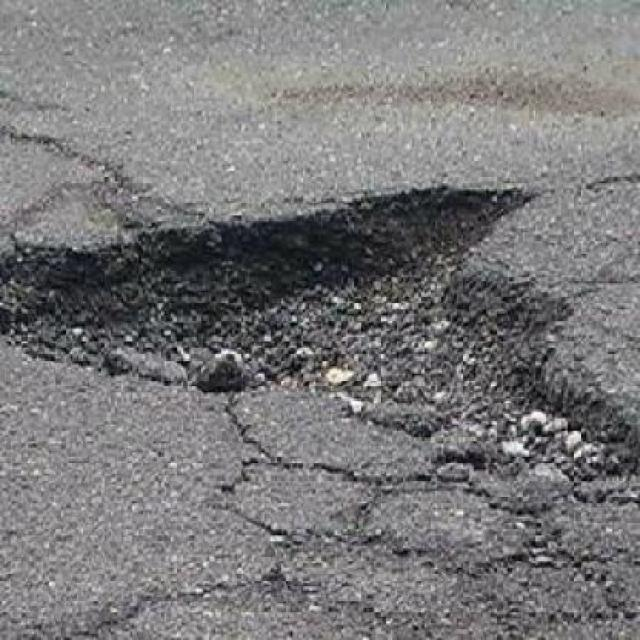Pothole: (0, 180, 638, 511)
